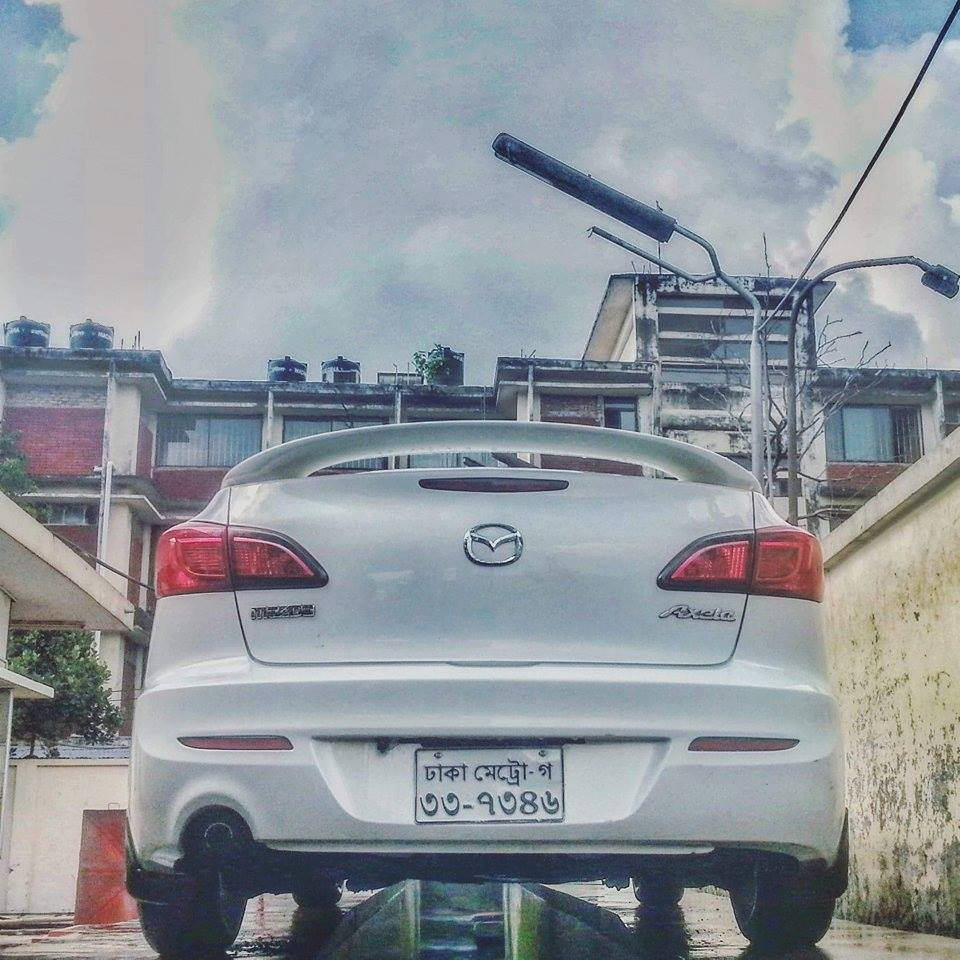registration_plate: (414, 746, 566, 825)
